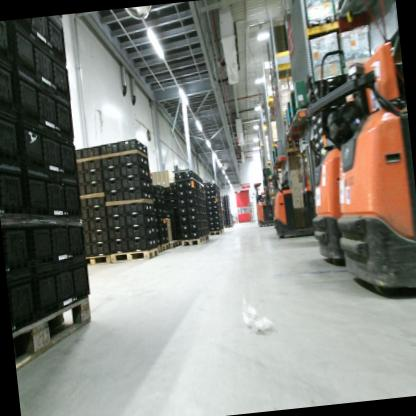pallet: (9, 290, 100, 373), (108, 243, 162, 265), (83, 252, 114, 270), (180, 235, 205, 247), (207, 227, 225, 238), (159, 242, 170, 254), (168, 239, 178, 249), (224, 223, 233, 229), (204, 234, 210, 242), (177, 238, 183, 246), (156, 244, 162, 251)
pallet_truck: (315, 30, 416, 307), (296, 49, 390, 269), (265, 147, 320, 240), (251, 172, 276, 225)
small_load_carrier: (23, 195, 86, 274), (11, 27, 73, 107), (15, 67, 73, 146), (31, 251, 92, 324), (22, 156, 83, 227), (21, 117, 79, 186), (10, 15, 69, 67), (0, 210, 33, 278), (0, 147, 27, 226), (7, 269, 38, 327), (0, 97, 24, 168), (0, 40, 21, 114), (0, 22, 18, 67), (118, 137, 149, 160), (125, 208, 156, 231), (121, 174, 153, 196), (120, 162, 151, 183), (124, 198, 155, 219), (119, 149, 148, 170), (122, 186, 154, 205), (126, 223, 158, 242), (127, 235, 160, 252), (98, 140, 121, 159), (101, 152, 122, 171), (89, 241, 111, 257), (102, 165, 122, 182), (103, 177, 123, 194), (87, 194, 107, 211), (104, 201, 125, 217), (87, 204, 108, 220), (81, 158, 103, 173), (104, 188, 124, 204), (106, 214, 126, 230), (85, 180, 105, 196), (84, 170, 104, 186), (81, 145, 101, 161), (109, 239, 129, 254), (89, 227, 108, 242), (88, 218, 107, 232), (108, 228, 127, 241), (71, 148, 83, 164), (81, 229, 90, 246), (82, 245, 94, 257), (80, 206, 88, 224), (78, 182, 87, 197), (78, 196, 88, 209), (75, 172, 85, 185), (80, 219, 90, 231), (77, 160, 82, 173)
